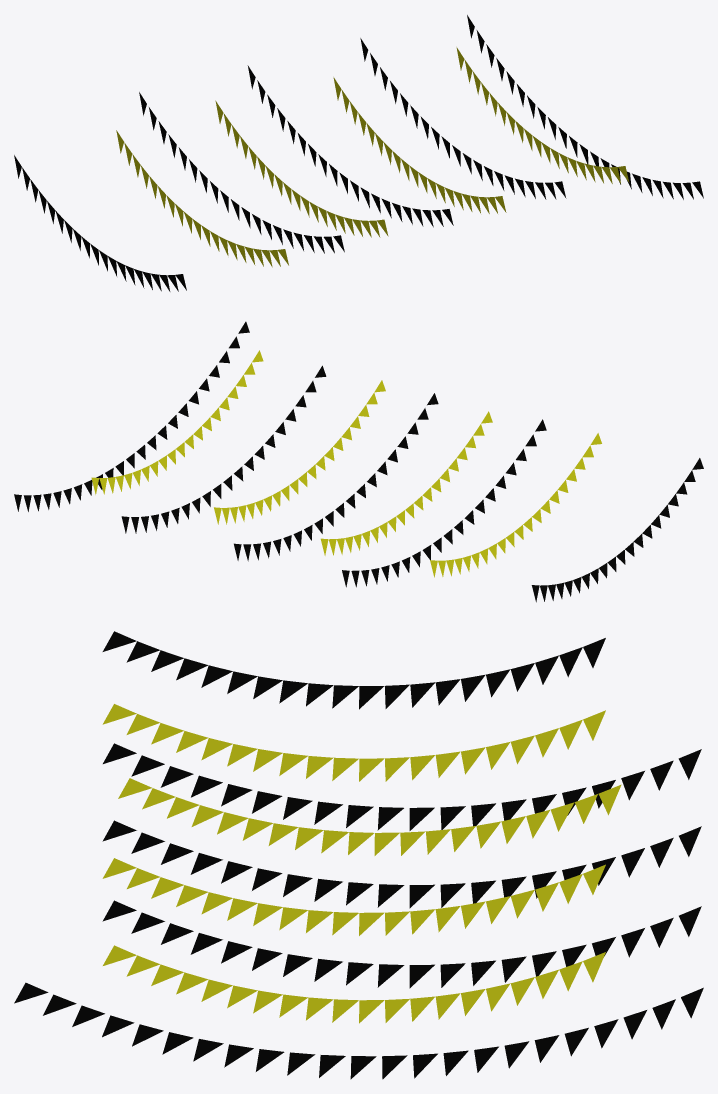
File: flag.glb
3 renders of one model, top to bottom at view 1: azimuth 30°, elevation 25°; view 2: azimuth 150°, elevation 25°; view 3: azimuth 270°, elevation 25°, orthographic. The views are drawn at different scales.
Parts seen in each view (by area): view 1: Plane.031, Plane.034, Plane.030, Plane.029, Plane.032, Plane.035, Plane.033, Plane.036, Plane.038; view 2: Plane.031, Plane.036, Plane.035, Plane.032, Plane.030, Plane.033, Plane.038, Plane.034, Plane.029; view 3: Plane.031, Plane.032, Plane.036, Plane.038, Plane.034, Plane.029, Plane.030, Plane.035, Plane.033.
Boxes of the visible parts, <box> form: Plane.031: <box>467,15,703,199</box>; Plane.034: <box>215,100,388,237</box>; Plane.030: <box>360,38,566,199</box>; Plane.029: <box>456,47,629,183</box>; Plane.032: <box>333,77,506,213</box>; Plane.035: <box>139,92,344,253</box>; Plane.033: <box>247,65,453,227</box>; Plane.036: <box>116,130,288,267</box>; Plane.038: <box>14,155,186,291</box>; Plane.031: <box>14,321,249,511</box>; Plane.036: <box>430,433,601,577</box>; Plane.035: <box>342,419,546,587</box>; Plane.032: <box>214,380,385,524</box>; Plane.030: <box>121,365,326,533</box>; Plane.033: <box>234,393,438,561</box>; Plane.038: <box>531,458,703,602</box>; Plane.034: <box>320,411,492,555</box>; Plane.029: <box>91,350,263,494</box>; Plane.031: <box>14,982,703,1079</box>; Plane.032: <box>102,858,605,935</box>; Plane.036: <box>102,704,605,781</box>; Plane.038: <box>102,631,605,709</box>; Plane.034: <box>118,778,621,855</box>; Plane.029: <box>103,945,605,1023</box>; Plane.030: <box>102,900,701,988</box>; Plane.035: <box>103,743,701,830</box>; Plane.033: <box>102,820,701,908</box>.
Bounding box in the file's own units: 25.36 × 3.53 × 21.4.
